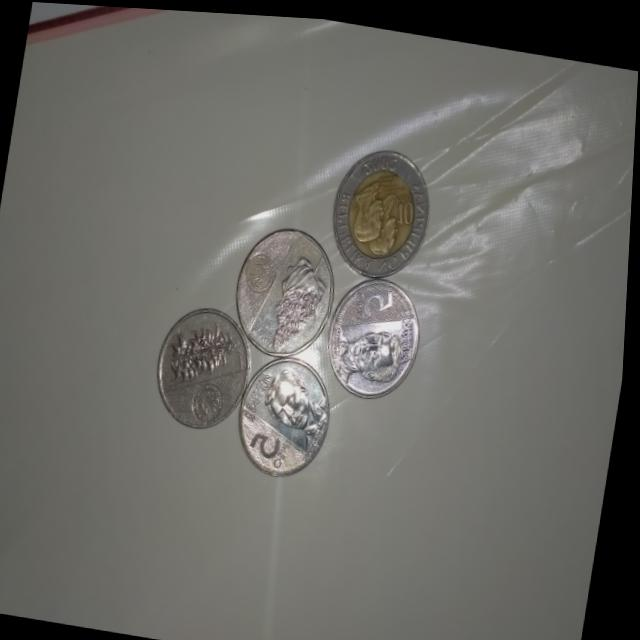10_New_Back: (230, 239, 337, 351)
10_Old_Front: (326, 143, 441, 280)
5_New_Front: (246, 357, 334, 468)
